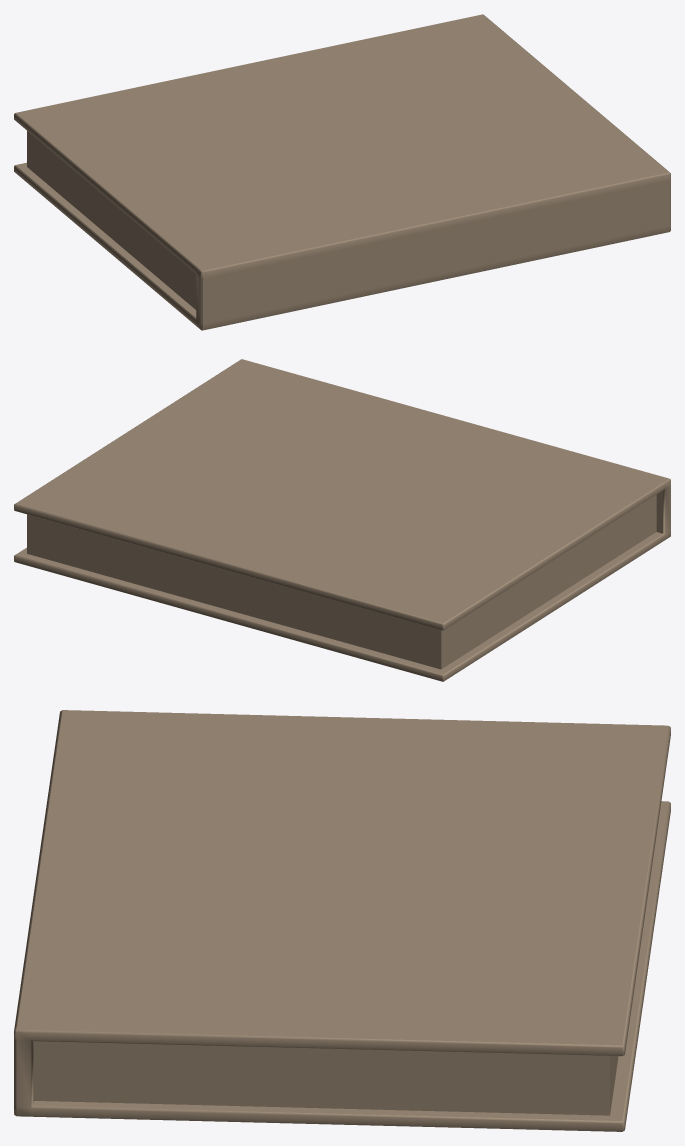
File: Book01.fbx
3 renders of one model, top to bottom at view 1: azimuth 30°, elevation 25°; view 2: azimuth 150°, elevation 25°; view 3: azimuth 270°, elevation 25°, orthographic. The views are drawn at different scales.
Parts seen in each view (by area): view 1: Book01; view 2: Book01; view 3: Book01.
Boxes of the visible parts, bbox=[...] form: Book01: bbox=[14, 14, 670, 330]; Book01: bbox=[14, 359, 670, 681]; Book01: bbox=[14, 710, 670, 1131].
Bounding box in the file's own units: 0.3303 × 0.0395 × 0.2718.
